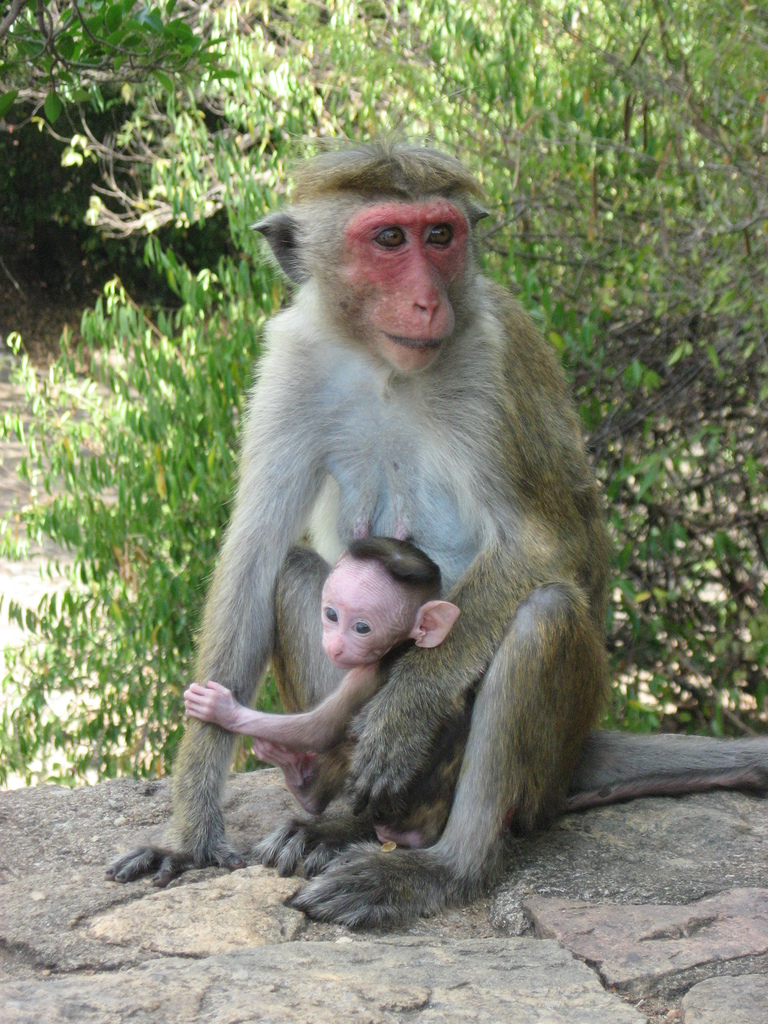person: (184, 530, 460, 766)
